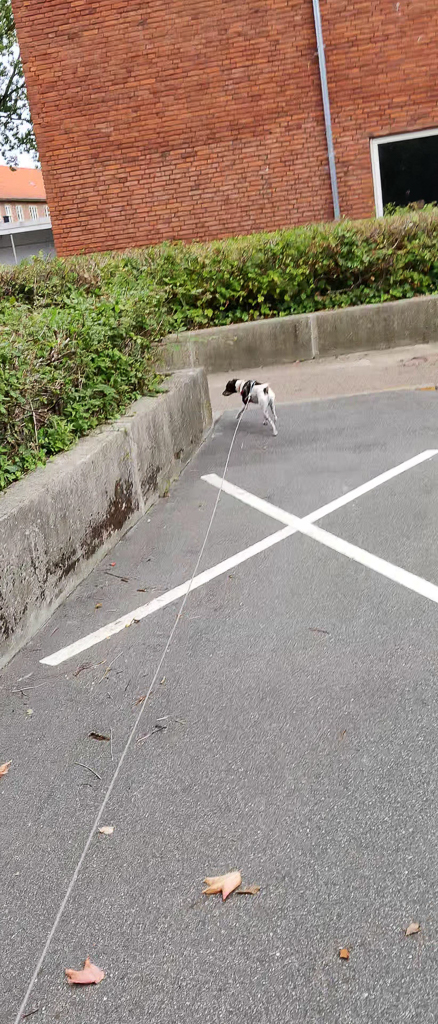Dog: (217, 376, 286, 441)
